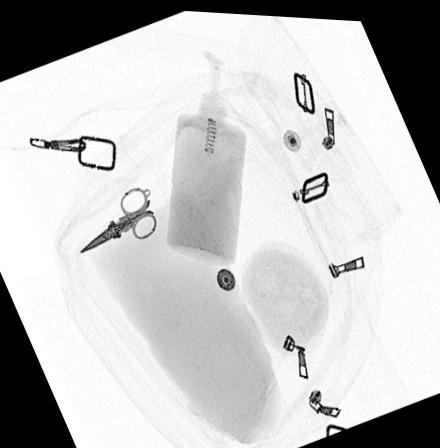Scissors: (77, 185, 159, 252)
